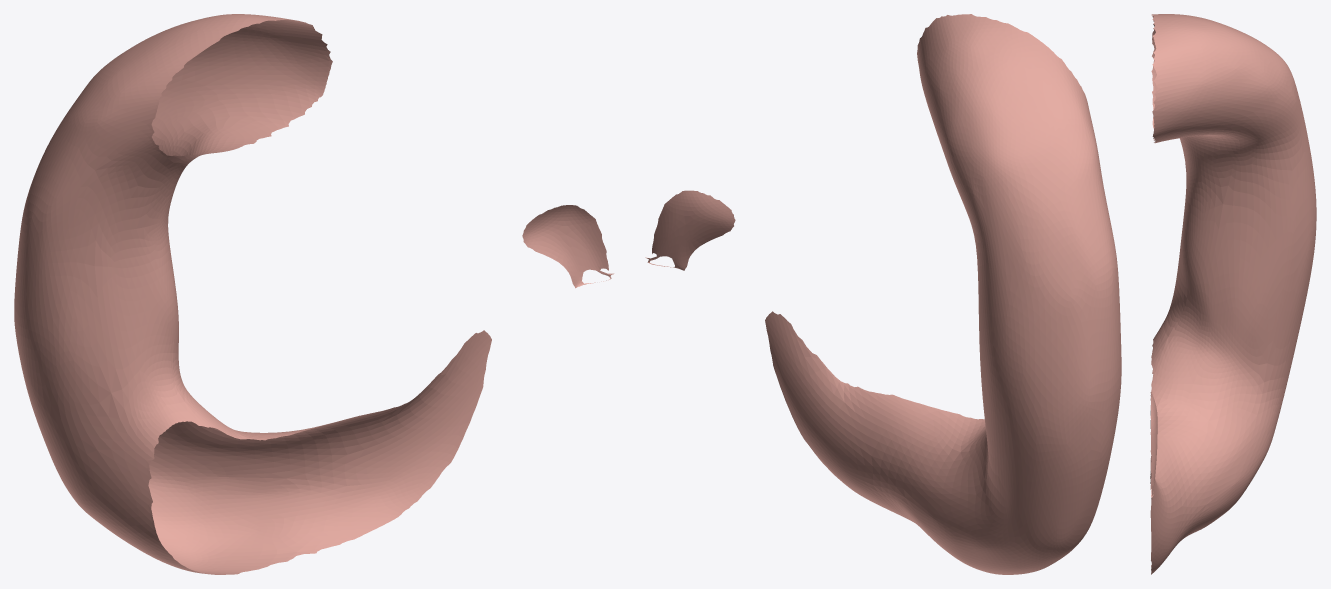
File: duodeno_interno.glb
3 renders of one model, left to right at view 1: azimuth 30°, elevation 25°; view 2: azimuth 150°, elevation 25°; view 3: azimuth 270°, elevation 25°, orthographic. The views are drawn at different scales.
Visible parts, largest first — view 1: duodenum; view 2: duodenum; view 3: duodenum.
Part boxes in pixels (x1,y1,x2,y2): duodenum: (14,14,614,574); duodenum: (645,14,1121,574); duodenum: (1150,14,1316,574).
Bounding box in the file's own units: 93.79 × 90.92 × 27.14.
